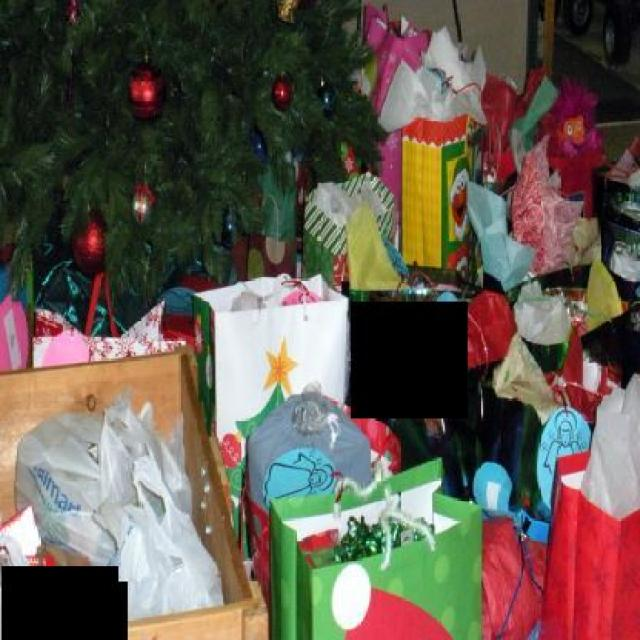plastic bag: (9, 388, 152, 589), (97, 446, 226, 622), (0, 534, 60, 638)
